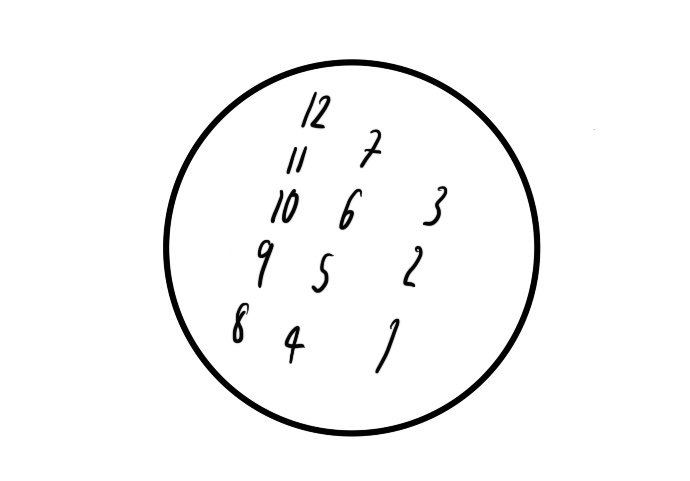eight: (231, 299, 251, 348)
eleven: (285, 141, 309, 177)
five: (308, 245, 338, 297)
four: (284, 320, 306, 364)
nine: (253, 235, 275, 291)
one: (373, 315, 402, 375)
seven: (355, 121, 384, 172)
six: (335, 185, 366, 234)
ten: (267, 186, 300, 226)
three: (422, 179, 449, 229)
twelve: (300, 88, 333, 131)
two: (402, 238, 426, 293)
